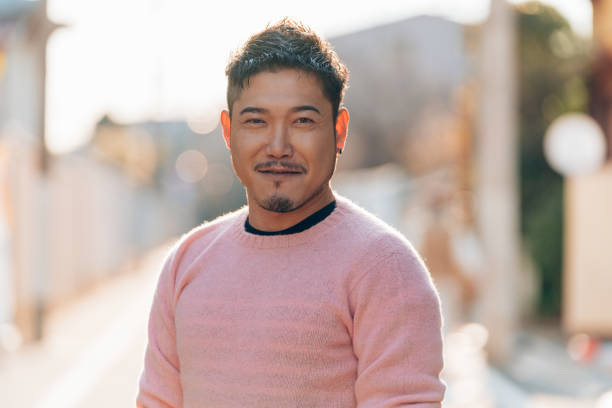person: (218, 20, 351, 216)
